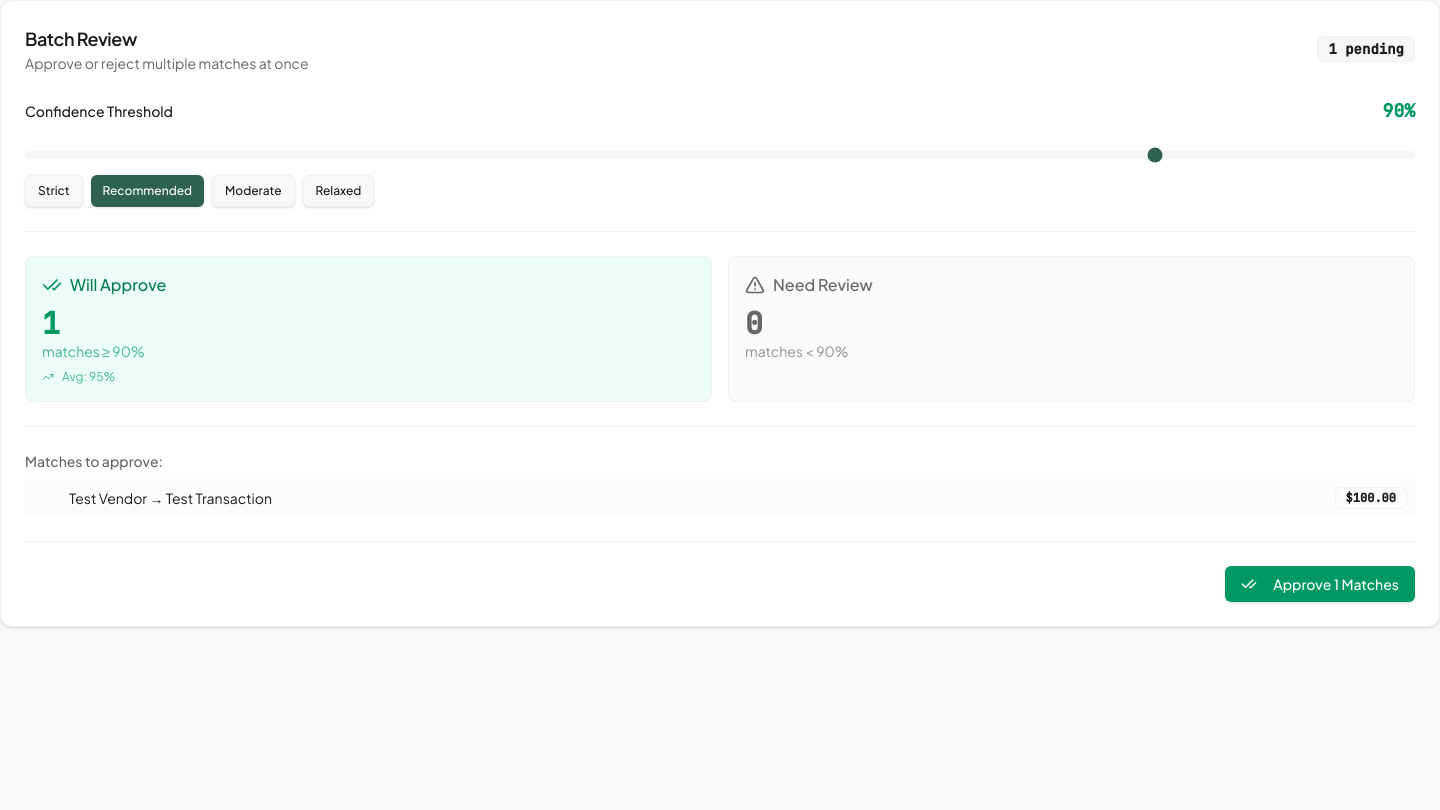
Test: BatchReviewPanel › Batch Actions › should open confirmation dialog when approve clicked
The image size is (1440, 810).
Click the button "Approve 1 Matches".
click(1320, 584)  # box [1225,566,1415,602]
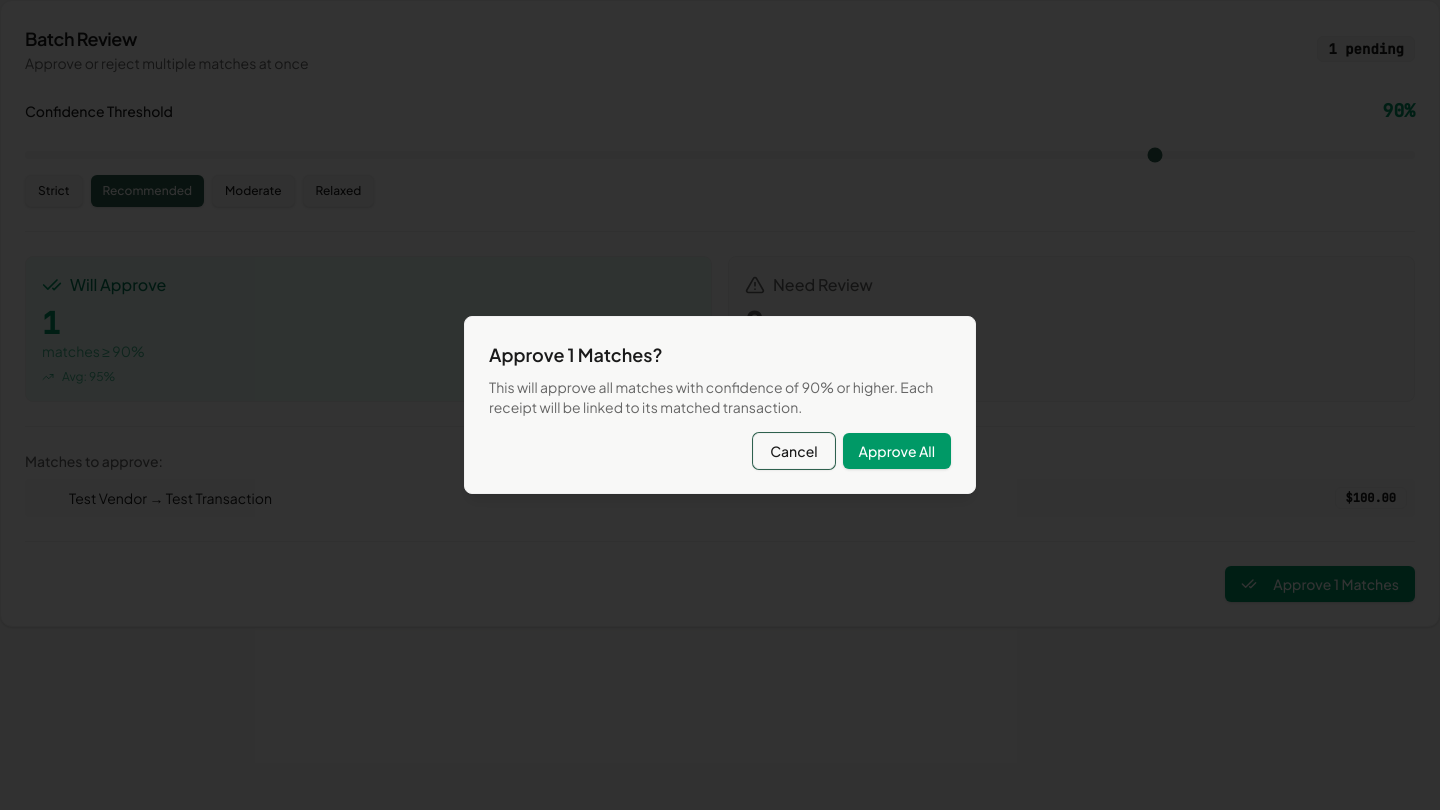
Now the heading "Approve 1 Matches?" is shown, box [489,343,663,366]
